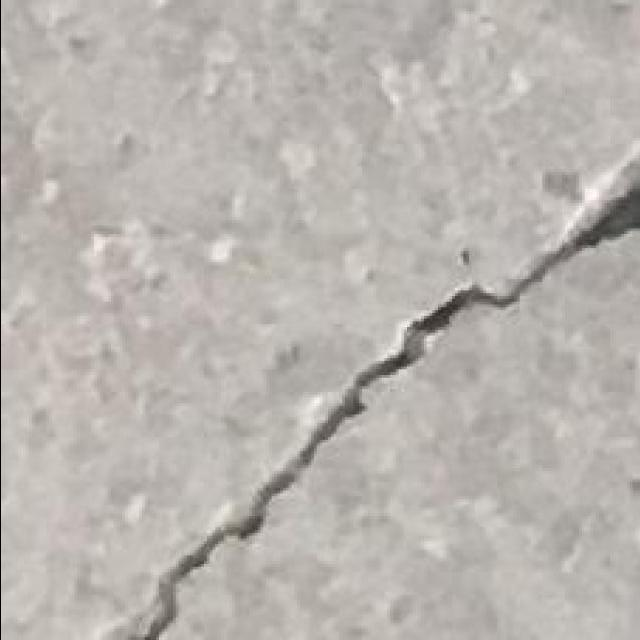Crack: (101, 142, 638, 637)
